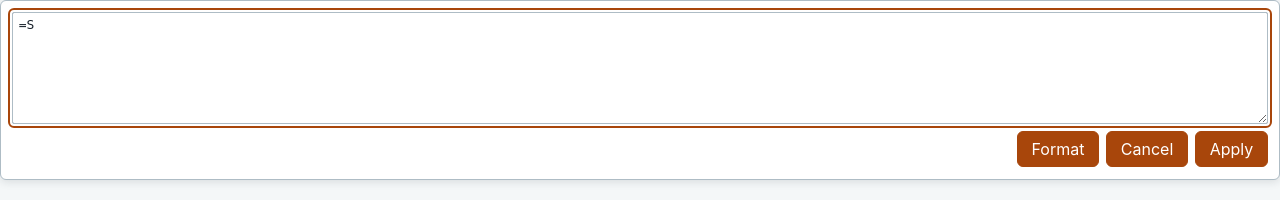
Scenario: formula completion keyboard handling › accepts a selected completion in heavy with Enter or Tab
Replace the text in the text box named "Formula" with "=SU" at (640, 68), box [12,12,1268,124]
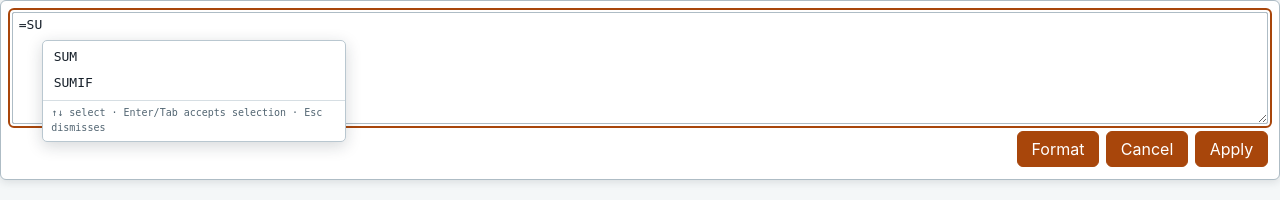
Press ArrowDown in the text box named "Formula", box [12,12,1268,124]
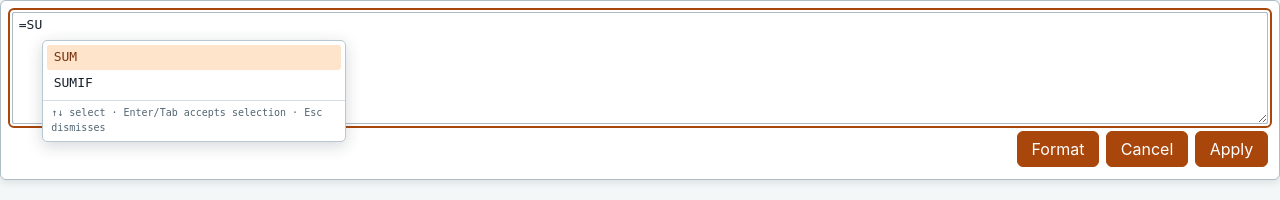
Press Enter in the text box named "Formula", box [12,12,1268,124]
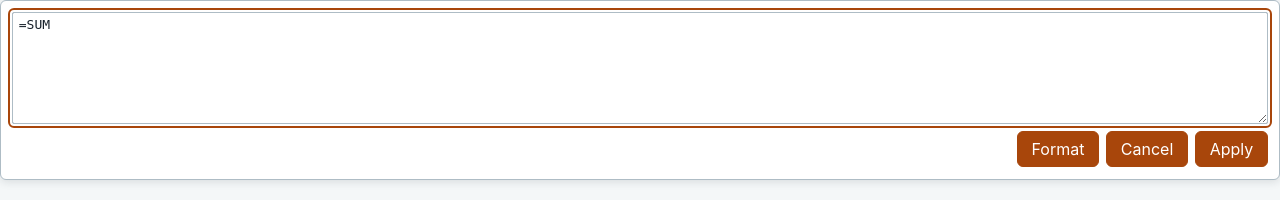
expect the text box named "Formula" holds "=SUM": met
expect the list is gone: met
Replace the text in the text box named "Formula" with "=SU" at (640, 68), box [12,12,1268,124]
Press Space in the text box named "Formula", box [12,12,1268,124]
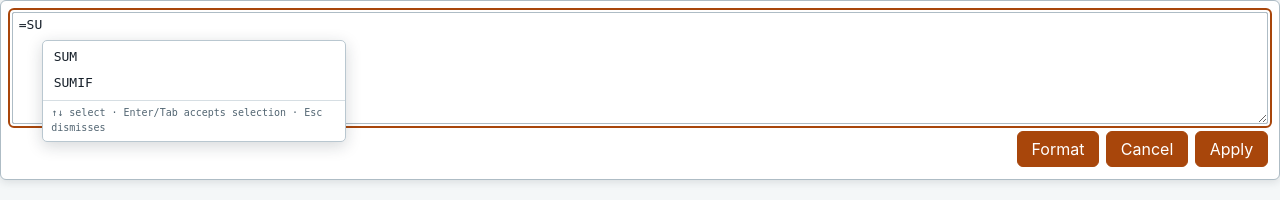
Press ArrowDown in the text box named "Formula", box [12,12,1268,124]
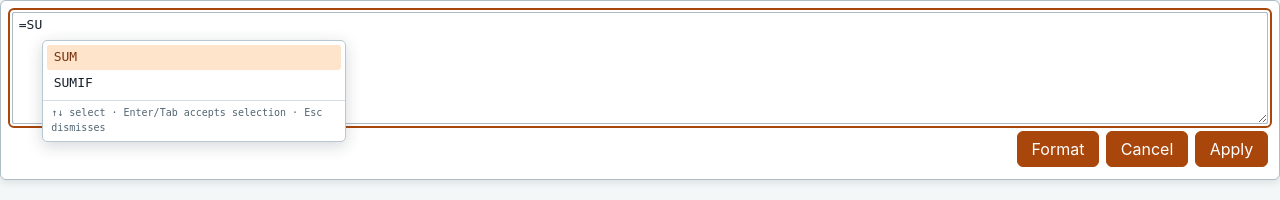
Press Tab in the text box named "Formula", box [12,12,1268,124]
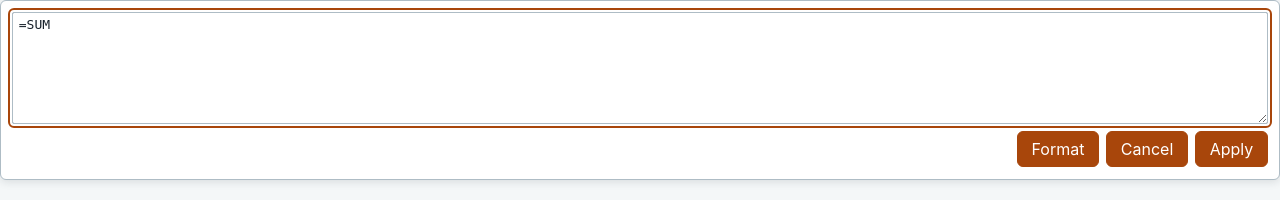
expect the text box named "Formula" holds "=SUM": met, box [12,12,1268,124]
expect the list is gone: met
